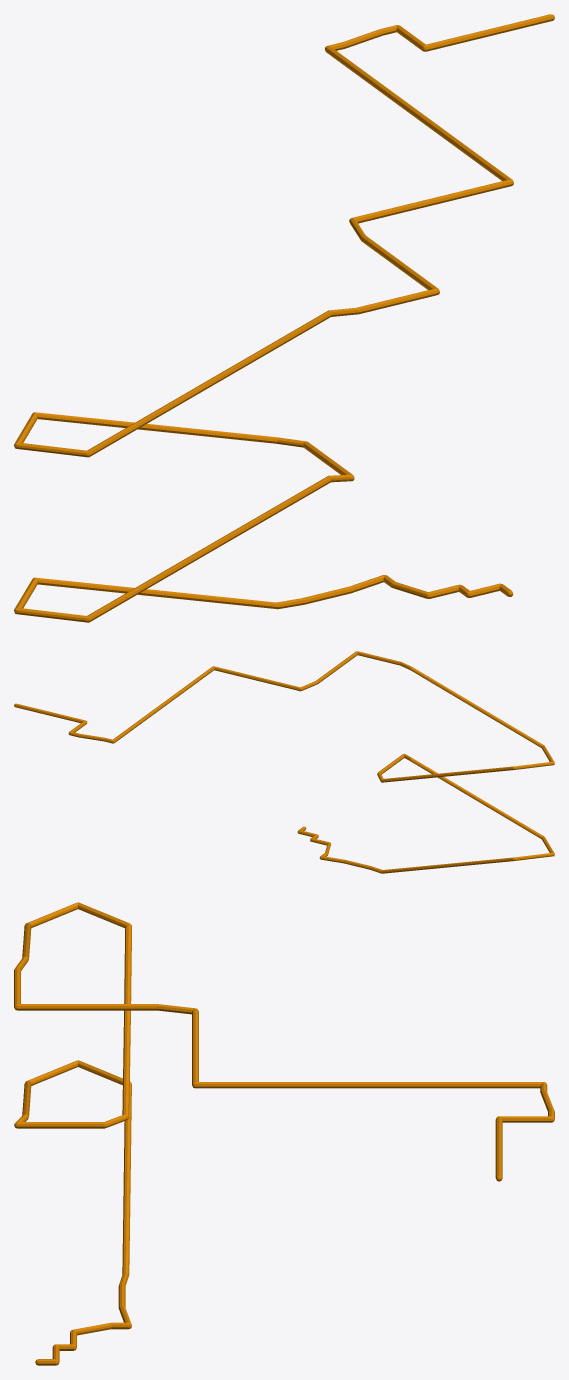
3 views of the same model, one above another, from view 1: azimuth 30°, elevation 25°; view 2: azimuth 150°, elevation 25°; view 3: azimuth 270°, elevation 25° (orthographic). The views are drawn at different scales.
Bounding box in the file's own units: 2408 × 1020 × 1553.
